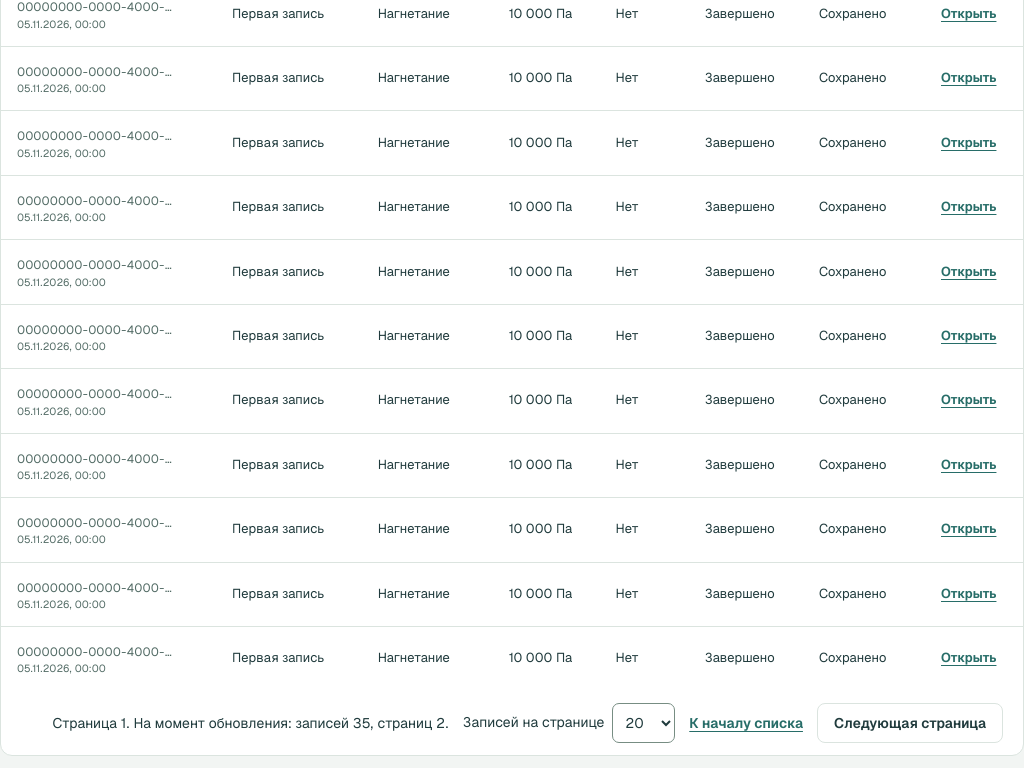
Test case: предлагает вернуться к началу, если история изменилась перед курсором
(page scrolled)
Step 1. Click the button "Следующая страница" → point(910, 723), box x1=817 y1=702 x2=1003 y2=743
(page scrolled)
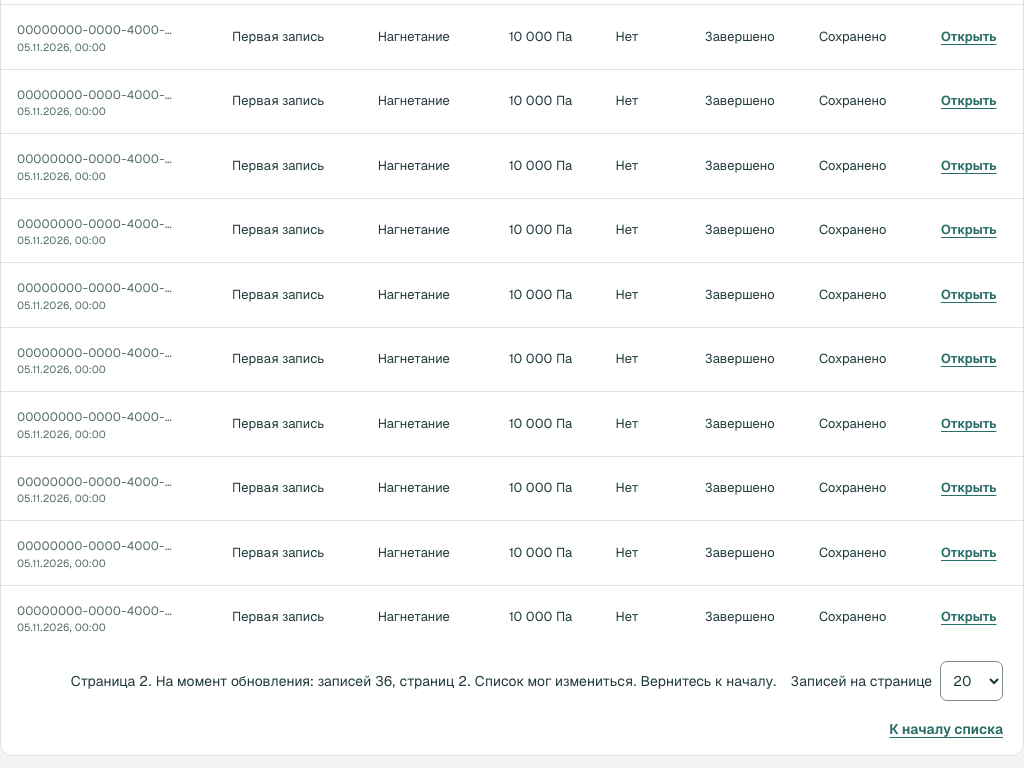
Result: the text "Список мог измениться. Вернитесь к началу" is shown at x1=471 y1=672 x2=776 y2=690
Step 2. Click the button "К началу списка" → point(946, 729), box x1=889 y1=715 x2=1003 y2=744
(page scrolled)
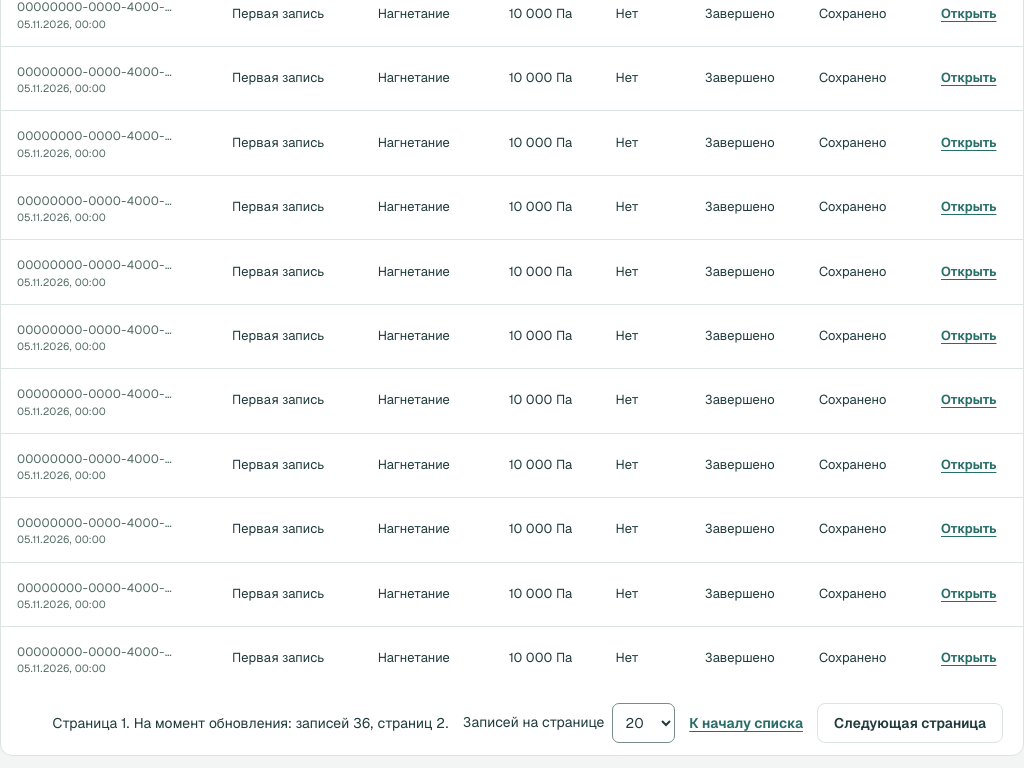
Result: the text "Страница 1. На момент обновления: записей 36, страниц 2." is shown at x1=53 y1=712 x2=449 y2=733
